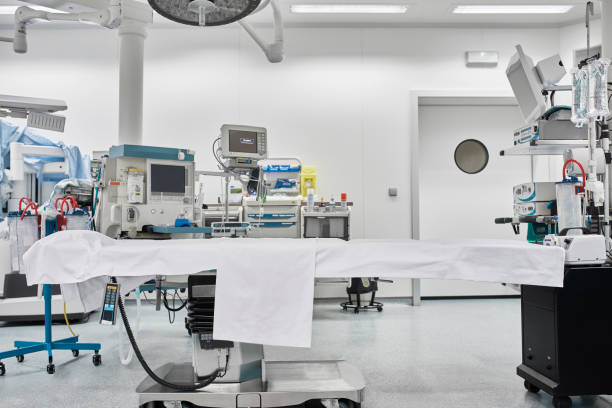bedside_monitor: (497, 47, 546, 122), (220, 116, 270, 160), (148, 159, 190, 194)
chair: (342, 270, 386, 315)
iv_pole: (570, 56, 612, 198)
operating_bed: (23, 230, 566, 408)
surgical_light: (145, 1, 264, 28)
